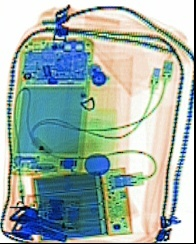powerbank: (34, 165, 133, 239)
